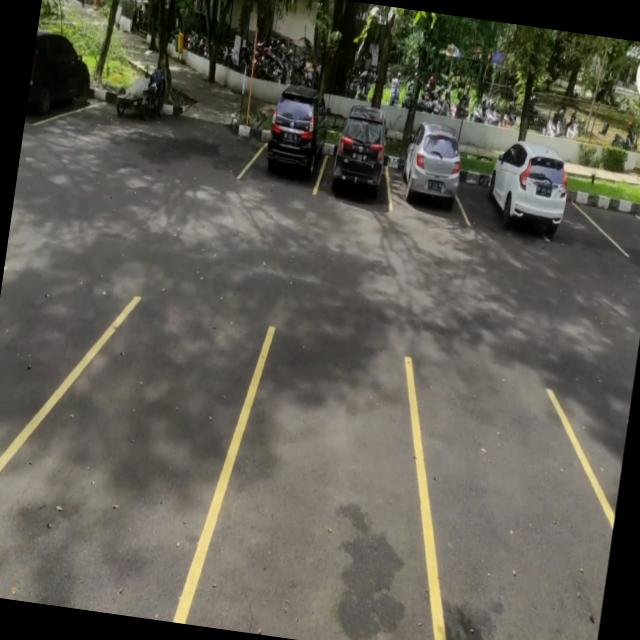car: (462, 154, 574, 246), (318, 113, 401, 213), (252, 103, 334, 196), (382, 142, 468, 225), (24, 37, 94, 135)
free: (0, 271, 259, 622), (187, 316, 461, 640), (402, 363, 633, 640), (593, 199, 640, 263)
